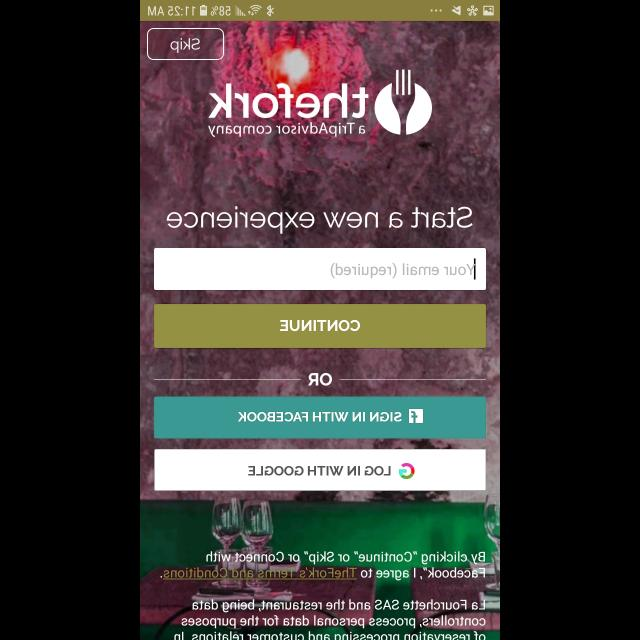backgroundimage: (140, 22, 500, 640)
image: (208, 83, 368, 137), (374, 70, 432, 134)
input: (154, 249, 486, 291)
text: (174, 598, 486, 640), (161, 551, 485, 581), (168, 206, 472, 234), (330, 263, 474, 279), (308, 374, 332, 386)
textbutton: (154, 304, 486, 348), (154, 396, 486, 439), (154, 449, 486, 491), (148, 28, 225, 60)
uppertaskbar: (140, 1, 500, 21)
